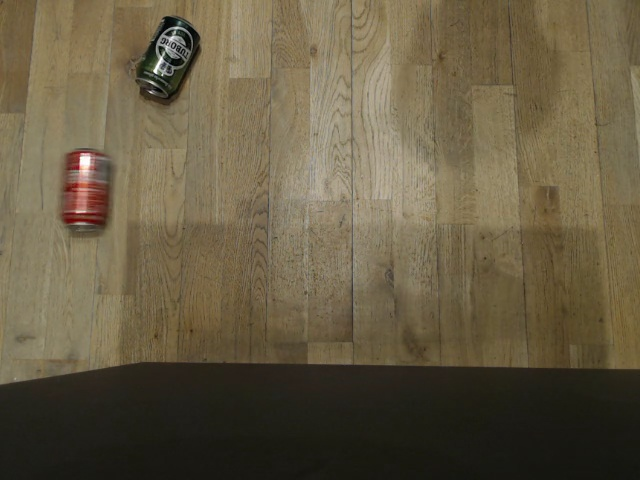beer: (131, 11, 204, 102)
cola: (59, 146, 113, 233)
